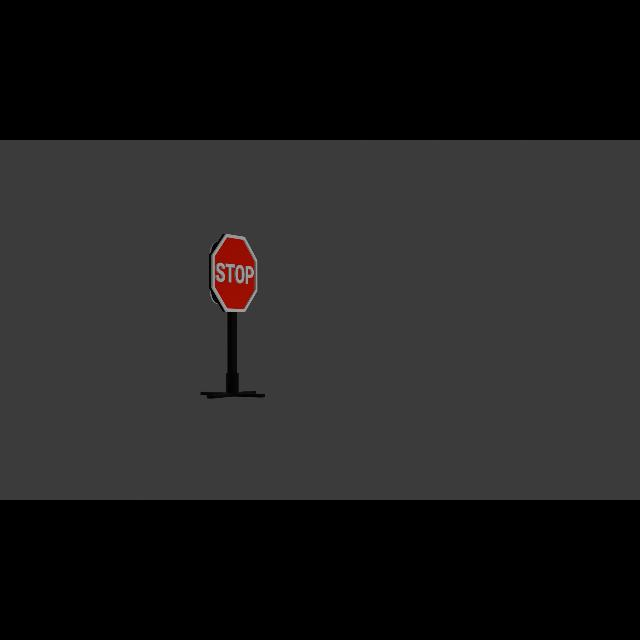sign_stop: (208, 234, 258, 314)
